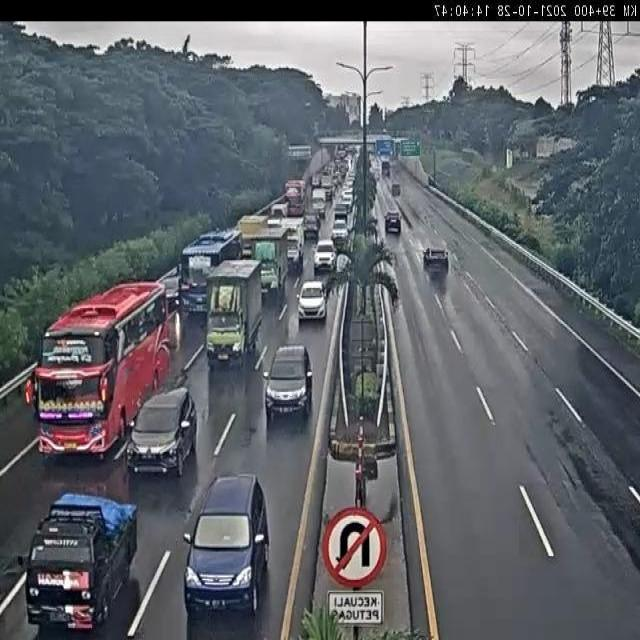Bus: (25, 233, 194, 475), (204, 260, 268, 372), (181, 228, 244, 313)
Car: (263, 344, 313, 426), (313, 240, 336, 274), (423, 244, 449, 272), (332, 219, 349, 250), (384, 212, 402, 233)
Truck: (24, 491, 136, 631), (183, 474, 269, 618), (336, 272, 356, 384), (253, 239, 287, 294), (351, 370, 382, 430), (180, 270, 210, 318), (237, 214, 269, 256), (296, 280, 328, 320), (337, 223, 369, 261), (354, 338, 380, 376), (1, 553, 26, 583), (26, 367, 40, 416), (163, 274, 181, 312), (370, 437, 396, 463), (343, 201, 358, 240), (514, 232, 542, 252), (428, 167, 452, 190), (286, 179, 306, 206), (333, 202, 350, 232), (311, 189, 327, 220), (286, 242, 302, 273), (303, 212, 320, 240), (460, 146, 485, 165), (554, 136, 576, 156), (384, 280, 398, 311), (362, 455, 378, 481), (231, 228, 245, 257), (342, 145, 359, 167), (179, 277, 191, 306), (336, 253, 351, 275), (319, 148, 332, 170), (341, 187, 354, 208), (271, 203, 288, 219), (393, 138, 408, 156), (332, 168, 344, 190), (366, 215, 378, 236), (335, 146, 348, 165), (321, 174, 334, 193), (372, 228, 383, 250), (337, 158, 349, 178), (388, 252, 398, 276), (531, 200, 545, 216), (176, 257, 184, 284), (327, 147, 338, 166), (286, 200, 298, 217), (267, 217, 282, 230), (241, 242, 253, 258), (422, 248, 432, 266), (299, 177, 309, 194), (312, 119, 320, 140), (369, 164, 378, 182), (382, 160, 391, 178), (368, 154, 376, 174), (352, 144, 365, 156), (343, 156, 352, 173), (312, 175, 322, 189), (506, 148, 512, 169), (365, 143, 376, 154), (314, 136, 325, 147), (392, 183, 401, 196), (519, 150, 530, 160), (392, 146, 399, 161), (428, 175, 436, 188), (538, 152, 550, 160), (392, 137, 403, 144), (382, 128, 388, 134)
